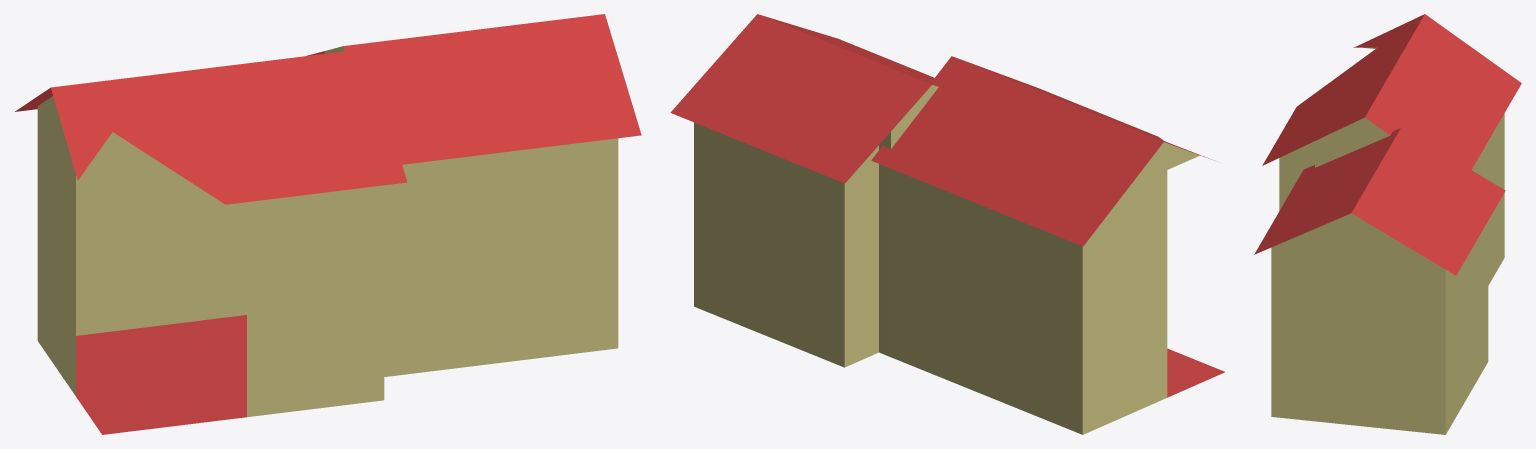
The picture shows the model from 3 angles, left to right: view 1: azimuth 30°, elevation 25°; view 2: azimuth 150°, elevation 25°; view 3: azimuth 270°, elevation 25°; orthographic projection. The views are drawn at different scales.
Bounding box in the file's own units: 25.64 × 14.06 × 13.28.
